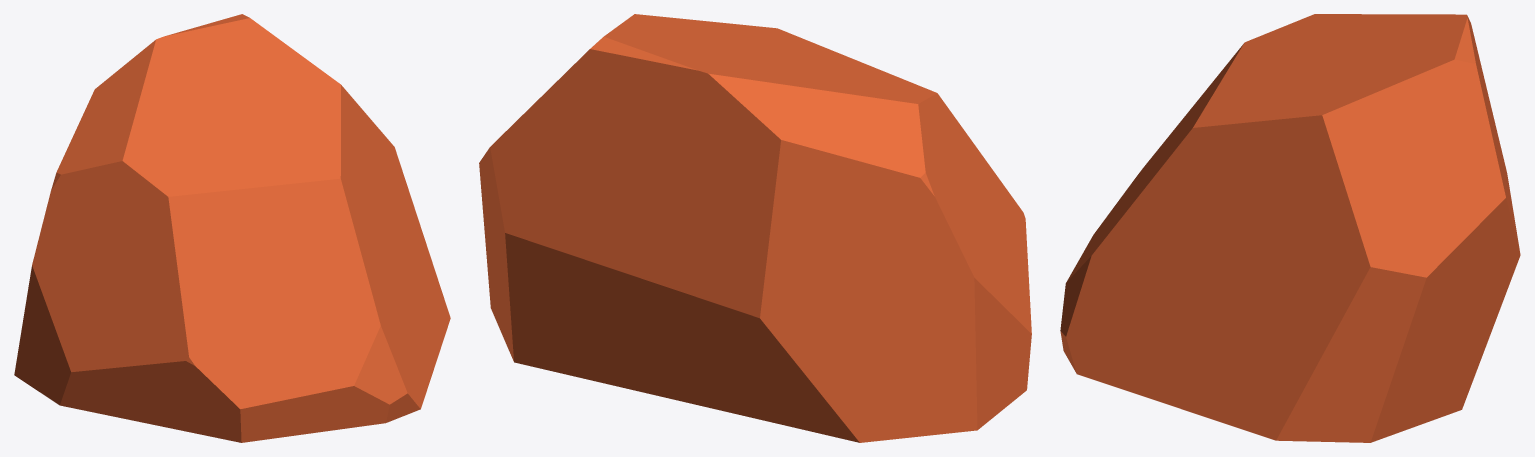
File: rock4.fbx
The picture shows the model from 3 angles, left to right: view 1: azimuth 30°, elevation 25°; view 2: azimuth 150°, elevation 25°; view 3: azimuth 270°, elevation 25°; orthographic projection. The views are drawn at different scales.
Parts seen in each view (by area): view 1: Cube.008; view 2: Cube.008; view 3: Cube.008.
Part boxes in pixels (x1=…): Cube.008: x1=14, y1=14, x2=450, y2=442; Cube.008: x1=479, y1=14, x2=1031, y2=442; Cube.008: x1=1060, y1=14, x2=1520, y2=442.
Bounding box in the file's own units: 42.79 × 28.45 × 37.94.
